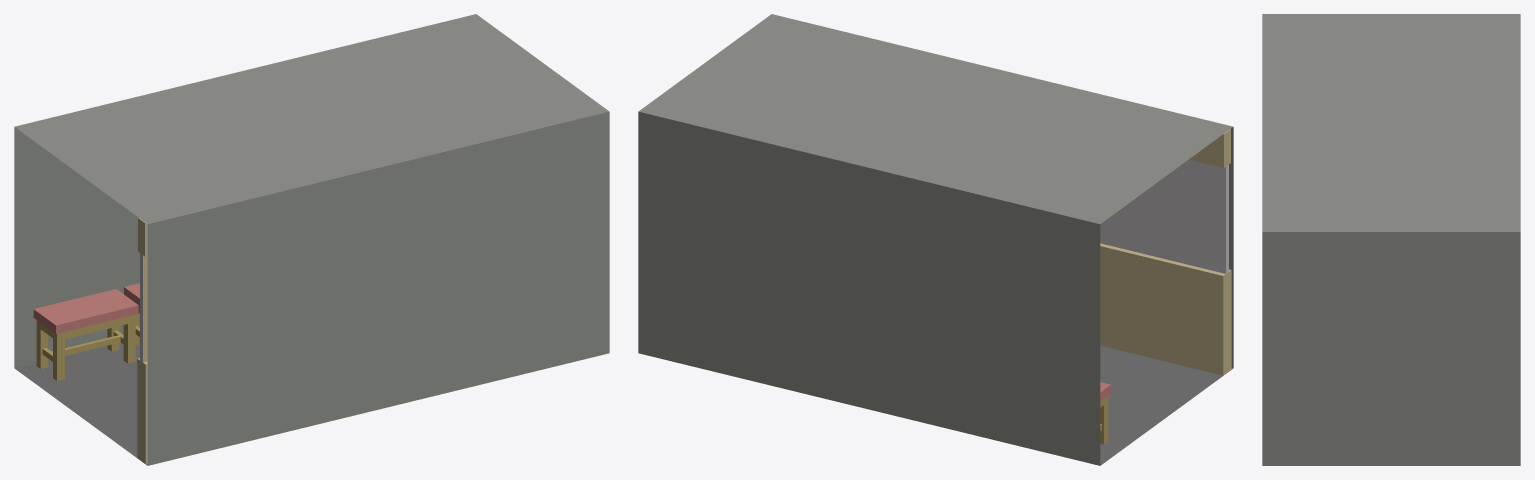
The model's file is adminbuilding2ndfloor.glb.
3 views of the same model, side by side, from view 1: azimuth 30°, elevation 25°; view 2: azimuth 150°, elevation 25°; view 3: azimuth 270°, elevation 25° (orthographic). The views are drawn at different scales.
Parts seen in each view (by area): view 1: Cube, benchCushionLow(Clone).004, Cube.001; view 2: Cube, Cube.001; view 3: Cube.
Boxes of the visible parts, left/top/right/bottom form: Cube: left=14, top=14, right=609, bottom=465; benchCushionLow(Clone).004: left=33, top=289, right=138, bottom=380; Cube.001: left=137, top=218, right=147, bottom=464; Cube: left=638, top=14, right=1233, bottom=465; Cube.001: left=1100, top=129, right=1231, bottom=375; Cube: left=1262, top=14, right=1520, bottom=465.
Size of the model in its own units: 4.03 by 2.02 by 2.02.
